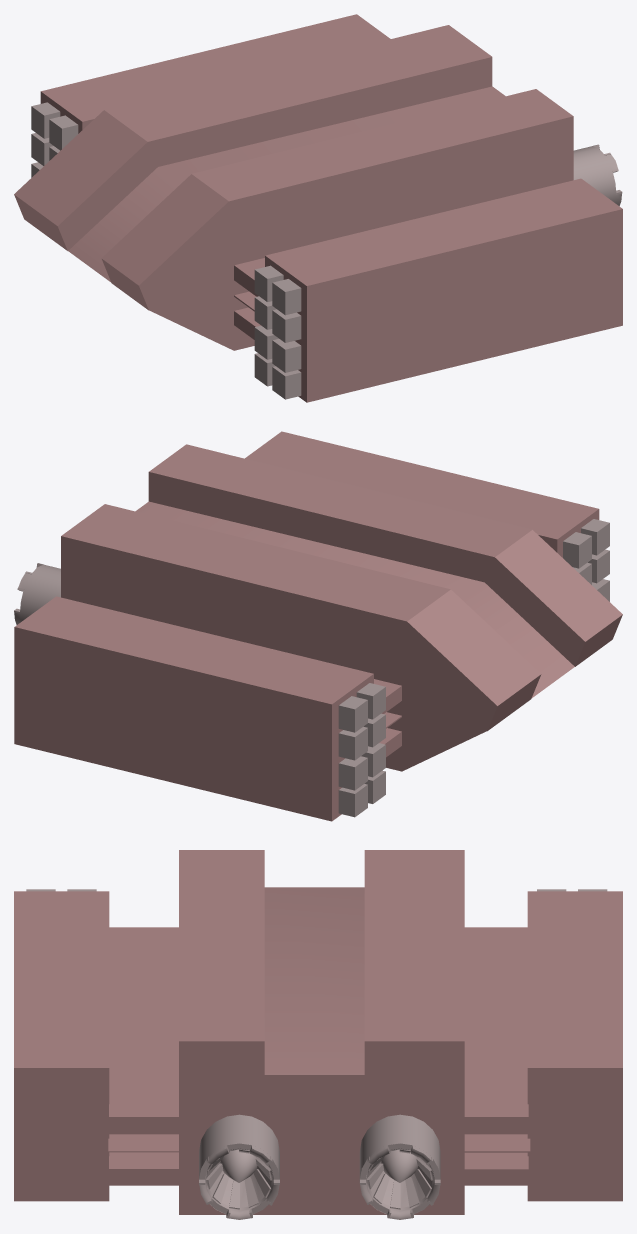
Rendered from MisaillShip.fbx.
3 renders of one model, top to bottom at view 1: azimuth 30°, elevation 25°; view 2: azimuth 150°, elevation 25°; view 3: azimuth 270°, elevation 25°, orthographic. The views are drawn at different scales.
Visible parts, largest first — view 1: pCube130; view 2: pCube130; view 3: pCube130.
Part boxes in pixels (bbox=[...]): pCube130: bbox=[14, 14, 622, 402]; pCube130: bbox=[14, 431, 622, 821]; pCube130: bbox=[14, 850, 622, 1219].
Size of the model in its own units: 83.59 by 24.6 by 78.19.
